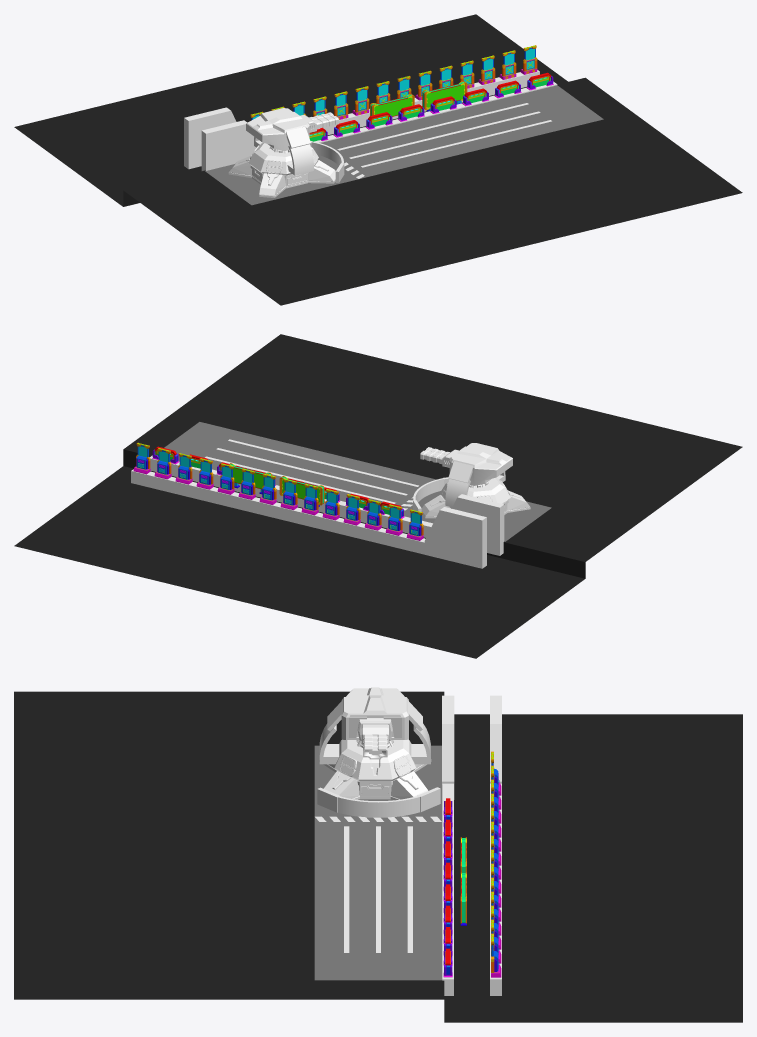
The model's file is Dummy_Field (4).fbx.
3 views of the same model, one above another, from view 1: azimuth 30°, elevation 25°; view 2: azimuth 150°, elevation 25°; view 3: azimuth 270°, elevation 25° (orthographic). The views are drawn at different scales.
Parts seen in each view (by area): view 1: BackGround, Field_Plane, Box020, Mesher001, Box047, Box046, Box022, Cylinder004, guidwall_a_002, Box081, guidwall_a_001, Box050 (+1 smaller); view 2: BackGround, Field_Plane, Box046, Box047, Mesher001, Box020, Box022, Cylinder004; view 3: BackGround, Field_Plane, Mesher001, Cylinder004, Box088, Box020, Box022, Box047, Plane014, Plane015, Box052, Box046 (+3 smaller).
Boxes of the visible parts, x1,y1,x2,y2 form: BackGround: [14, 14, 742, 305]; Field_Plane: [205, 85, 603, 205]; Box020: [201, 120, 256, 170]; Mesher001: [246, 108, 309, 150]; Box047: [184, 107, 236, 169]; Box046: [323, 70, 539, 135]; Box022: [314, 81, 557, 142]; Cylinder004: [248, 143, 318, 175]; guidwall_a_002: [422, 81, 467, 111]; Box081: [288, 144, 313, 175]; guidwall_a_001: [370, 93, 414, 116]; Box050: [259, 173, 286, 197]; BackGround: [14, 334, 742, 658]; Field_Plane: [164, 422, 551, 541]; Box046: [131, 469, 425, 554]; Box047: [424, 507, 486, 568]; Mesher001: [449, 443, 512, 485]; Box020: [452, 494, 504, 555]; Box022: [150, 455, 432, 537]; Cylinder004: [440, 477, 510, 503]; BackGround: [14, 691, 742, 1022]; Field_Plane: [314, 745, 442, 980]; Mesher001: [341, 687, 408, 739]; Cylinder004: [334, 739, 416, 781]; Box088: [337, 796, 420, 817]; Box020: [442, 695, 454, 799]; Box022: [442, 783, 453, 995]; Box047: [490, 695, 501, 783]; Plane014: [407, 826, 412, 952]; Plane015: [344, 826, 349, 952]; Box052: [390, 771, 427, 800]; Box046: [490, 783, 501, 995].
Size of the model in its own units: 4000 by 4000 by 623.
